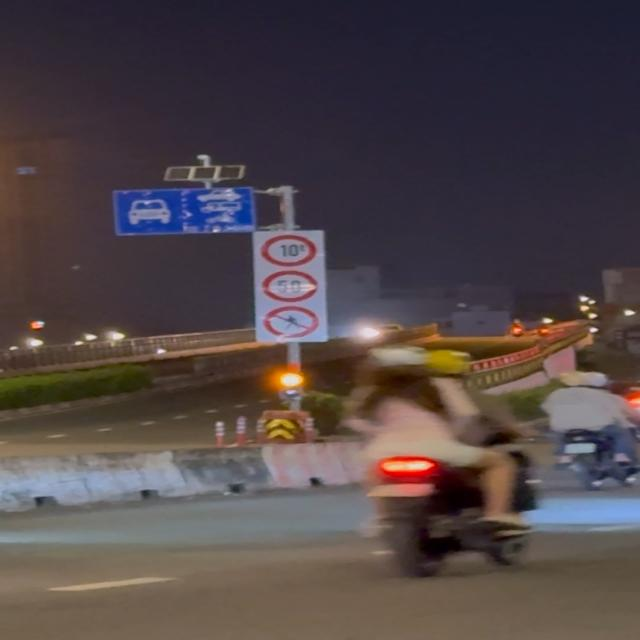Bien bao cam nguoi di bo: (262, 304, 327, 338)
Bien bao toc do toi da cho phep: (259, 270, 324, 302)
